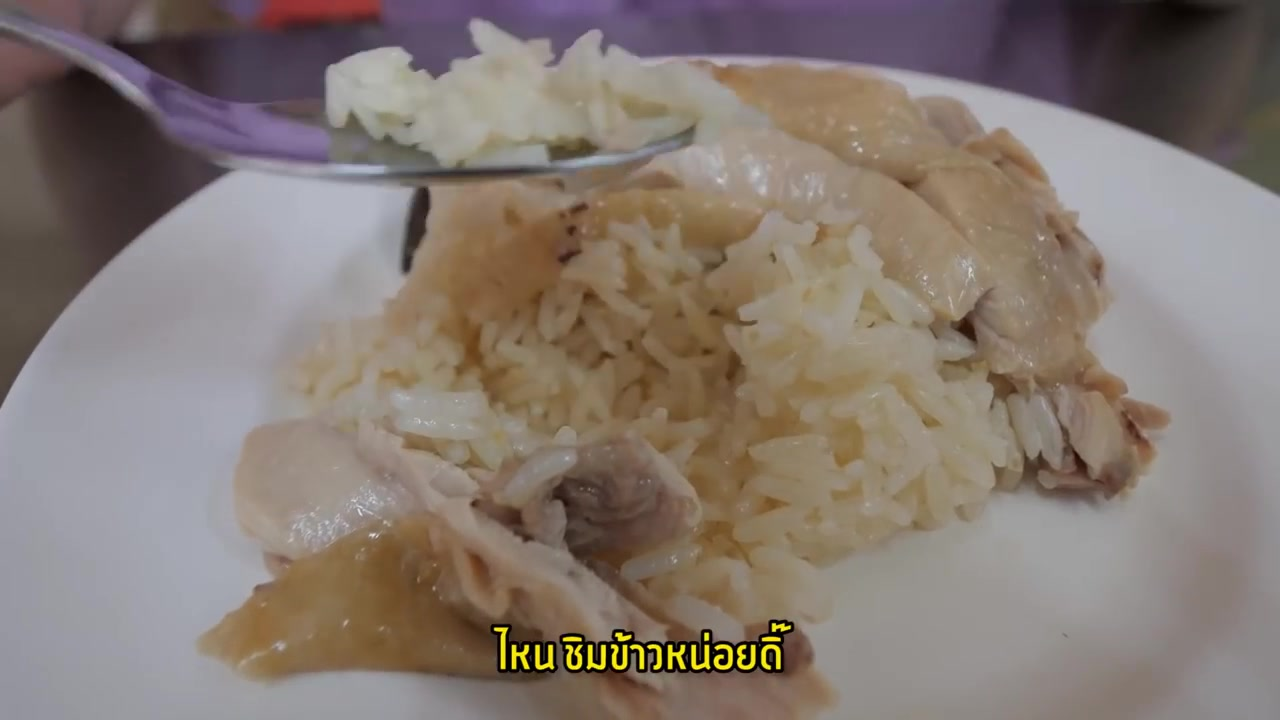text-label: (490, 615, 799, 677)
